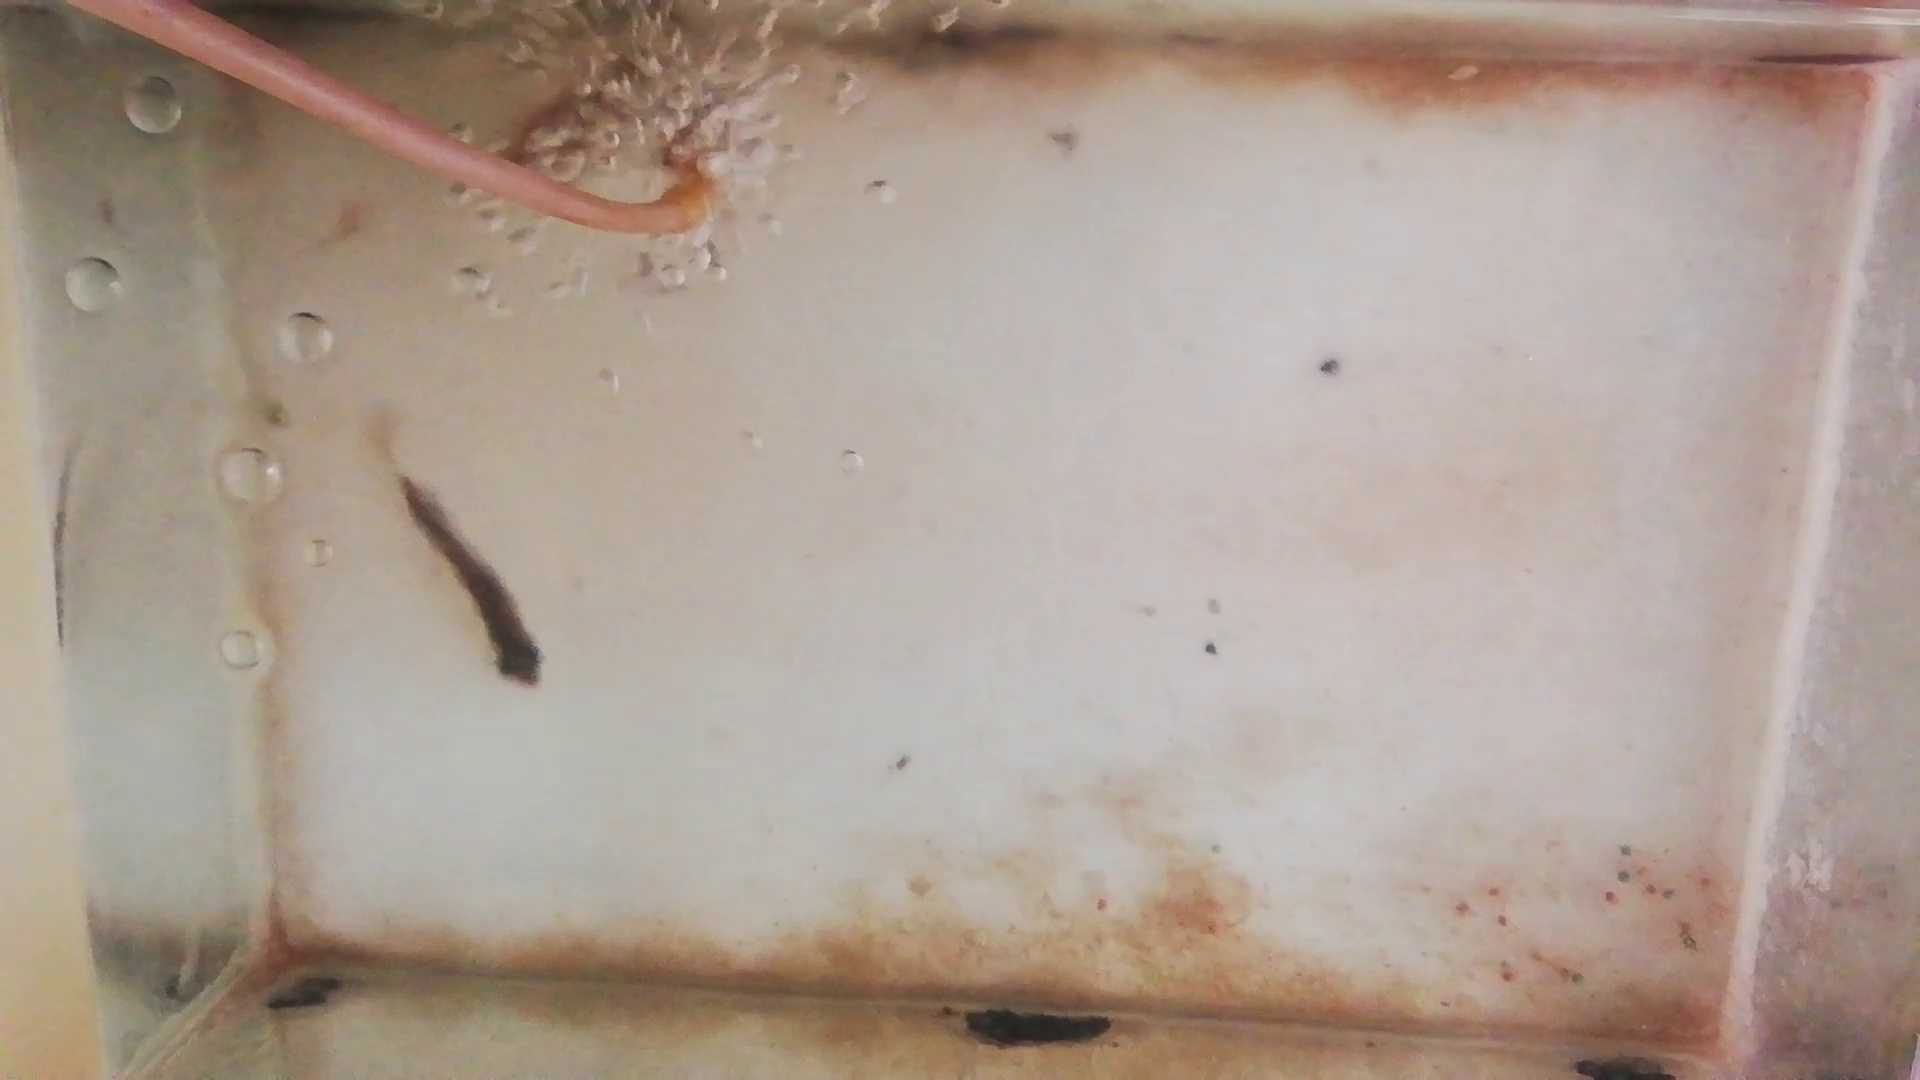fish: (396, 473, 543, 687), (505, 65, 642, 174)
